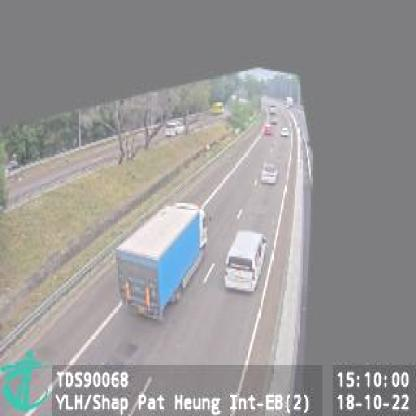Car: (222, 229, 268, 294), (260, 160, 278, 183), (280, 127, 290, 138), (264, 124, 272, 137)
Truck: (114, 203, 212, 322)
